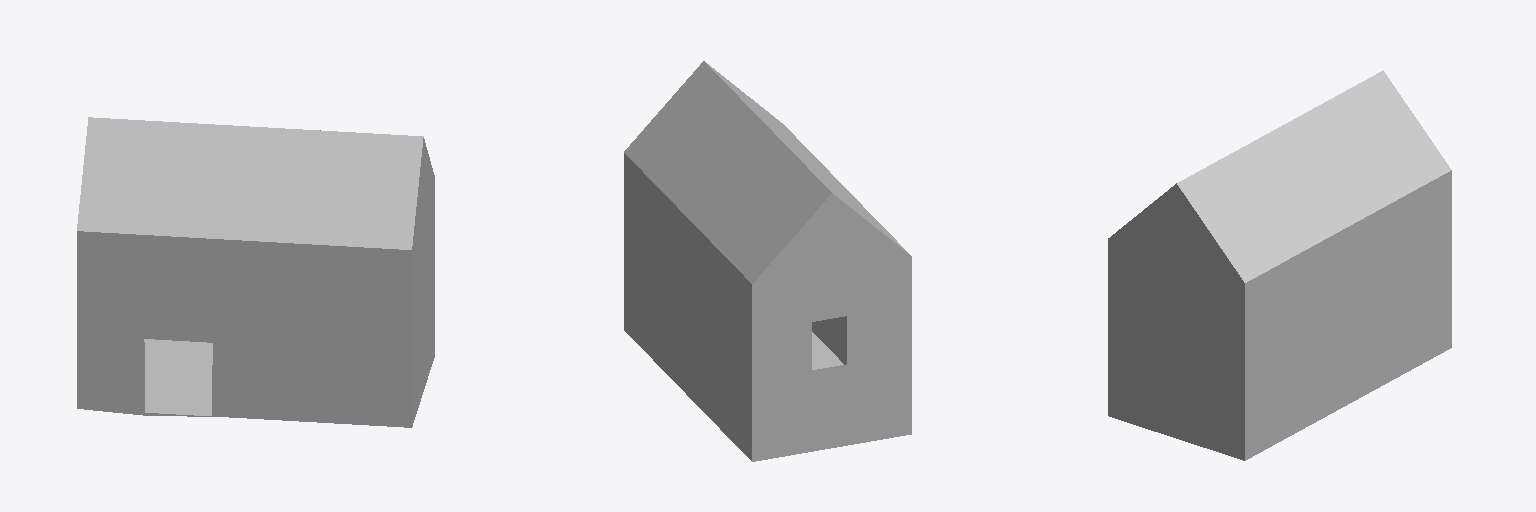
Rendered from Spawn Base.obj.
3 renders of one model, left to right at view 1: azimuth 30°, elevation 25°; view 2: azimuth 150°, elevation 25°; view 3: azimuth 270°, elevation 25°, orthographic.
Visible parts, largest first — view 1: Spawn_1; view 2: Spawn_1; view 3: Spawn_1.
Part boxes in pixels (bbox=[...]): Spawn_1: bbox=[77, 117, 434, 427]; Spawn_1: bbox=[624, 61, 911, 461]; Spawn_1: bbox=[1108, 70, 1451, 460].
Size of the model in its own units: 0.1045 by 0.0798 by 0.0962.